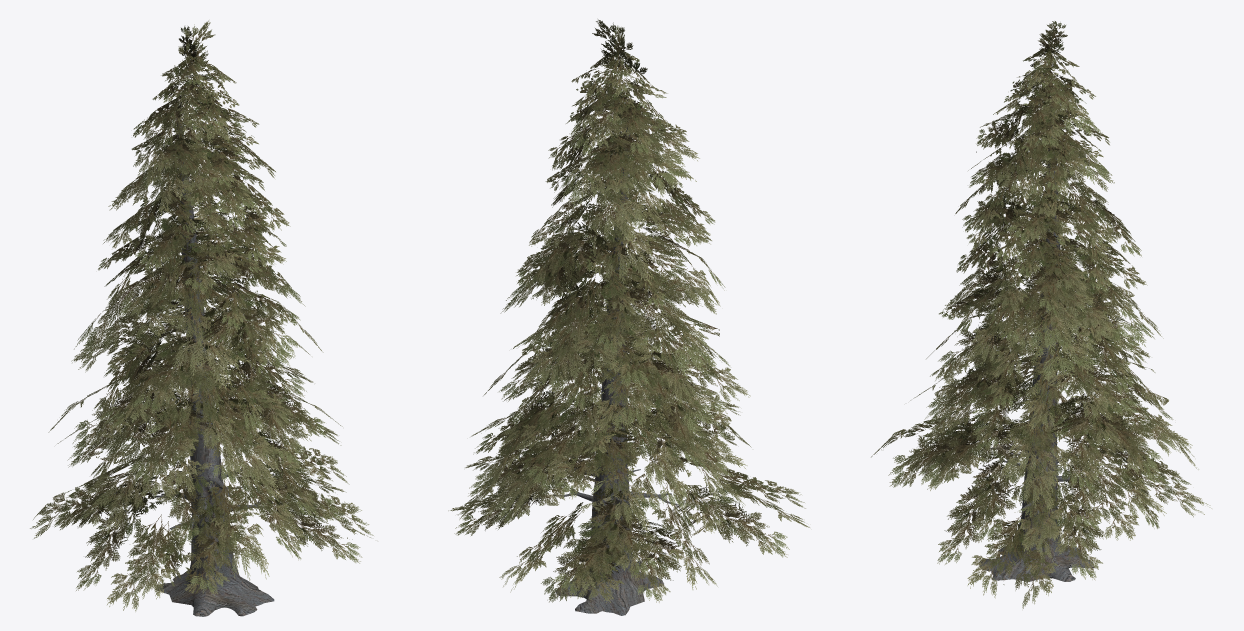
Rendered from cedro3.glb.
3 renders of one model, left to right at view 1: azimuth 30°, elevation 25°; view 2: azimuth 150°, elevation 25°; view 3: azimuth 270°, elevation 25°, orthographic. The views are drawn at different scales.
Visible parts, largest first — view 1: models\foliage\cedar_03.vmdl_c.cedar_03; view 2: models\foliage\cedar_03.vmdl_c.cedar_03; view 3: models\foliage\cedar_03.vmdl_c.cedar_03.
Part boxes in pixels (x1,y1,x2,y2): models\foliage\cedar_03.vmdl_c.cedar_03: (30,20,373,616); models\foliage\cedar_03.vmdl_c.cedar_03: (448,19,809,615); models\foliage\cedar_03.vmdl_c.cedar_03: (871,21,1211,608).
Bounding box in the file's own units: 8.59 × 14.61 × 9.21.
Materials: 2 (2 with a texture image).
